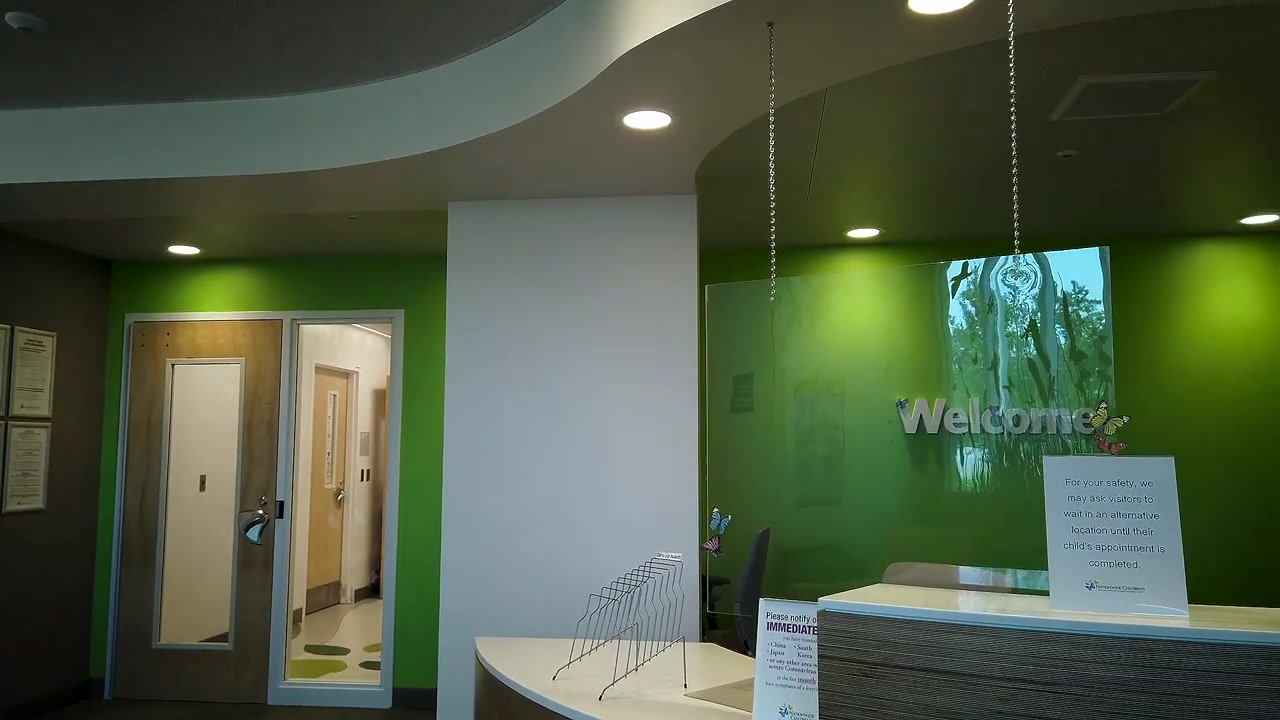chair: (701, 524, 775, 682)
counter: (468, 580, 1280, 720)
countertop: (814, 581, 1280, 643), (473, 635, 811, 720)
door_handle: (238, 493, 273, 548), (331, 474, 348, 507)
